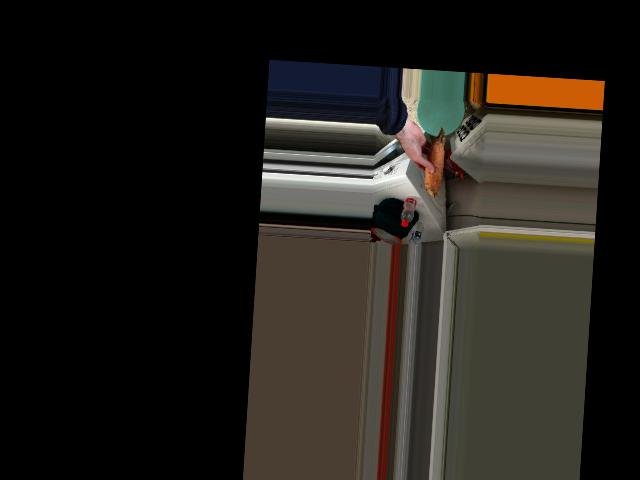sweet_potato: (420, 131, 447, 192)
